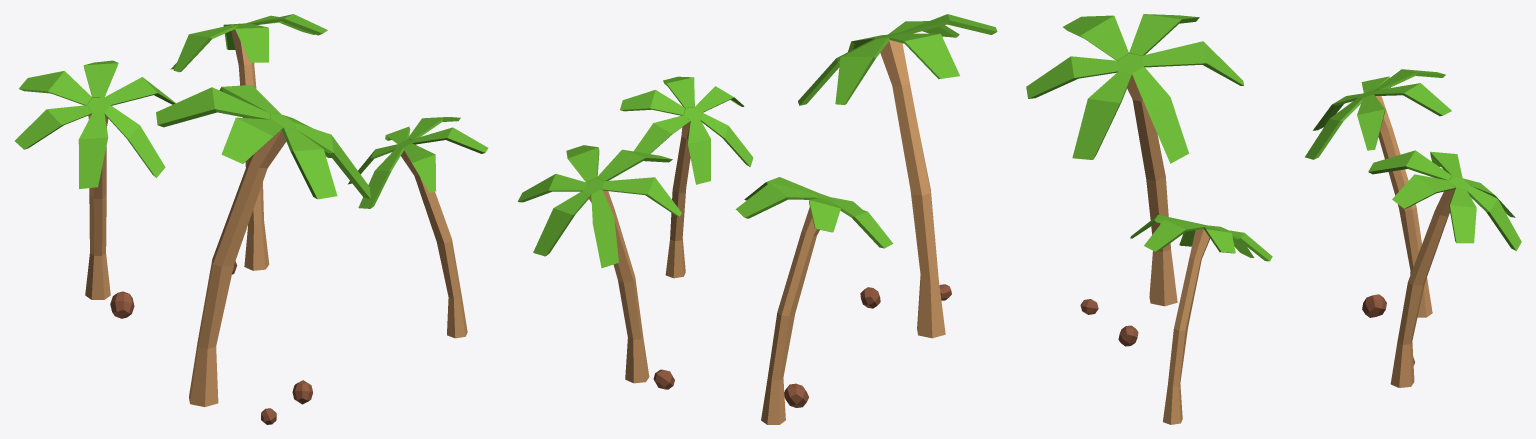
Rendered from PalmTrees.fbx.
3 renders of one model, left to right at view 1: azimuth 30°, elevation 25°; view 2: azimuth 150°, elevation 25°; view 3: azimuth 270°, elevation 25°, orthographic. The views are drawn at different scales.
Visible parts, largest first — view 1: PalmTrees; view 2: PalmTrees; view 3: PalmTrees.
Part boxes in pixels (bbox=[...]): PalmTrees: bbox=[15, 14, 488, 424]; PalmTrees: bbox=[517, 14, 997, 424]; PalmTrees: bbox=[1026, 14, 1521, 424].
Size of the model in its own units: 0.6777 by 0.5602 by 0.8484.
